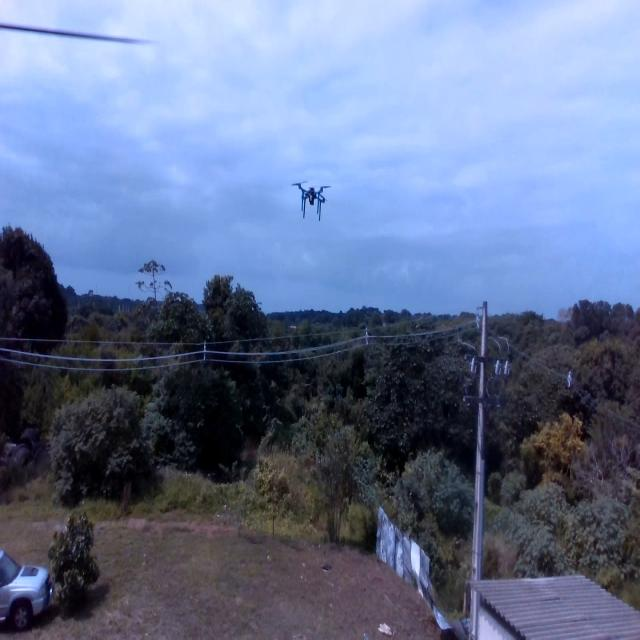-uav-: (290, 166, 334, 231)
